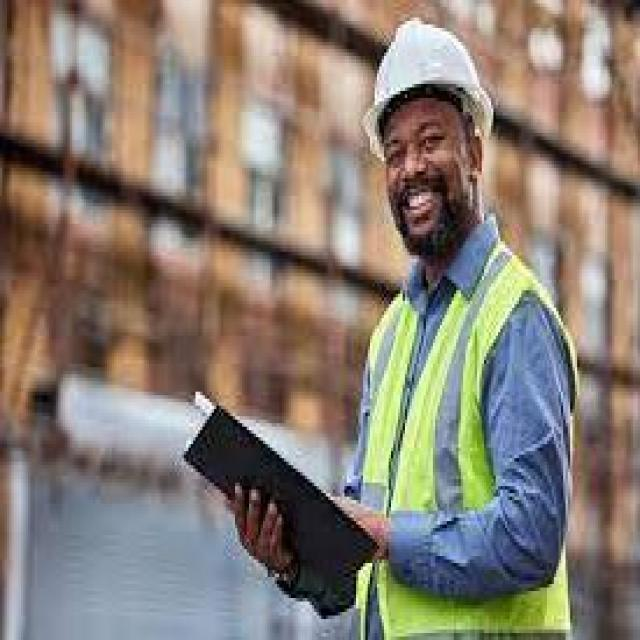Reflective-Jacket: (349, 245, 575, 629)
Safety-Helmet: (363, 14, 493, 143)
